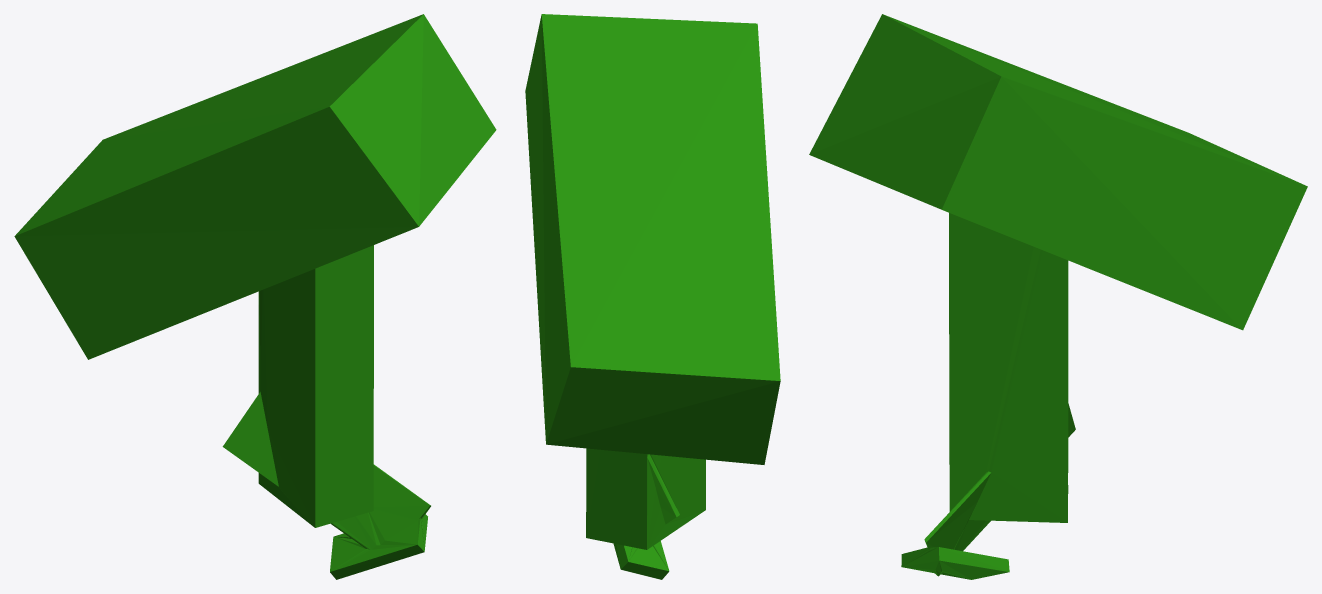
The picture shows the model from 3 angles, left to right: view 1: azimuth 30°, elevation 25°; view 2: azimuth 150°, elevation 25°; view 3: azimuth 270°, elevation 25°; orthographic projection. The views are drawn at different scales.
Parts seen in each view (by area): view 1: 589_Cube.2368; view 2: 589_Cube.2368; view 3: 589_Cube.2368.
Boxes of the visible parts, left/top/right/bottom form: 589_Cube.2368: left=14, top=14, right=496, bottom=579; 589_Cube.2368: left=525, top=14, right=780, bottom=579; 589_Cube.2368: left=809, top=14, right=1307, bottom=579.
Bounding box in the file's own units: 12.36 × 17.21 × 14.01.
